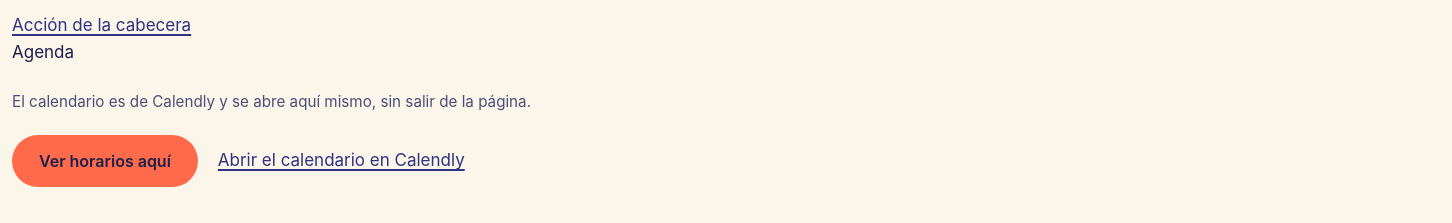
Test: aviso de idioma › una dirección que no es de Calendly no carga nada y muestra la alternativa
Click the button "Ver horarios aquí".
click(105, 161)  # box top-left (12, 135), bottom-right (198, 187)
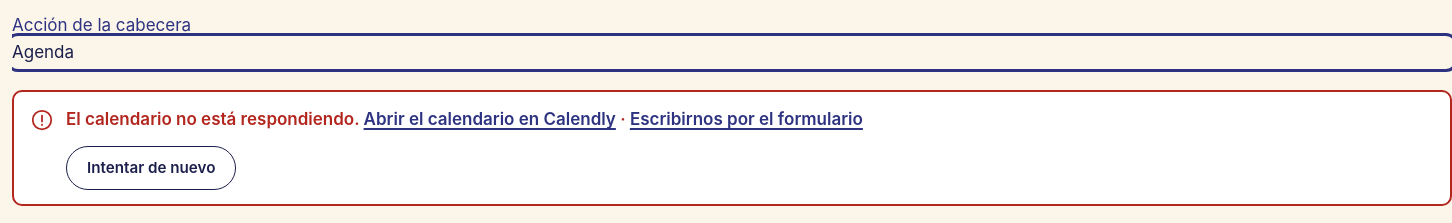
Check: the message shows "El calendario no está respondiendo.", box top-left (66, 109), bottom-right (359, 129)
